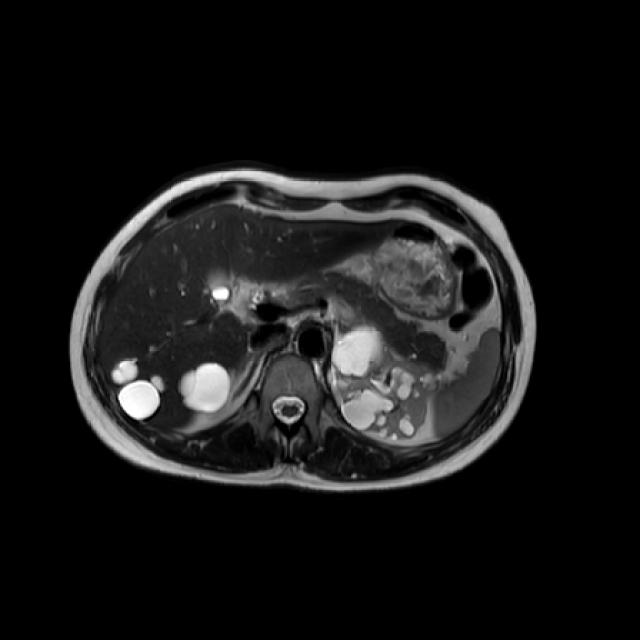sag: (179, 363, 231, 412)
sol: (330, 323, 444, 441)
